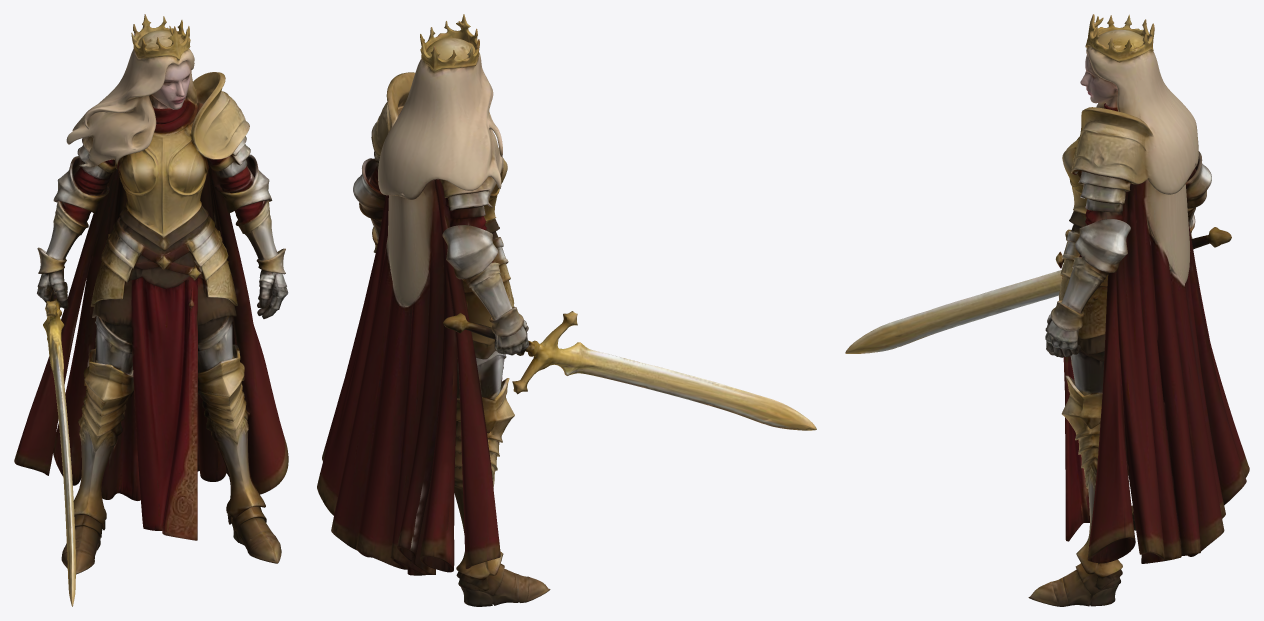
Rendered from hero_f_0.glb.
3 renders of one model, left to right at view 1: azimuth 30°, elevation 25°; view 2: azimuth 150°, elevation 25°; view 3: azimuth 270°, elevation 25°, orthographic. The views are drawn at different scales.
Parts seen in each view (by area): view 1: node_0; view 2: node_0; view 3: node_0.
Part boxes in pixels (bbox=[...]): node_0: bbox=[14, 14, 288, 606]; node_0: bbox=[317, 14, 816, 606]; node_0: bbox=[845, 14, 1249, 606].
Size of the model in its own units: 0.7046 by 1.04 by 0.6946.
1 material, 1 textured.
